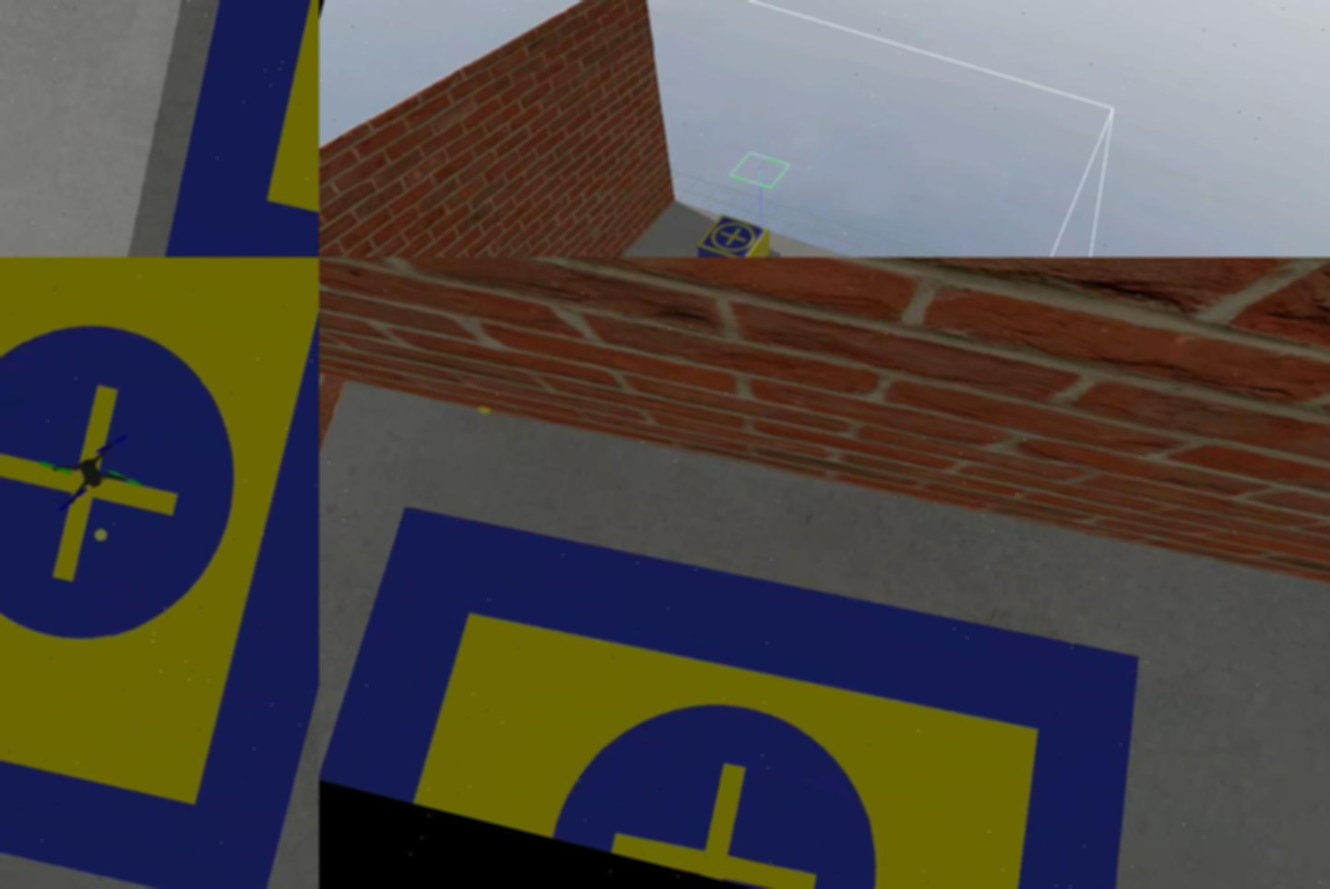large_base: (319, 472, 1182, 889), (1, 258, 319, 889), (143, 1, 319, 258)
small_base: (697, 211, 771, 258)
